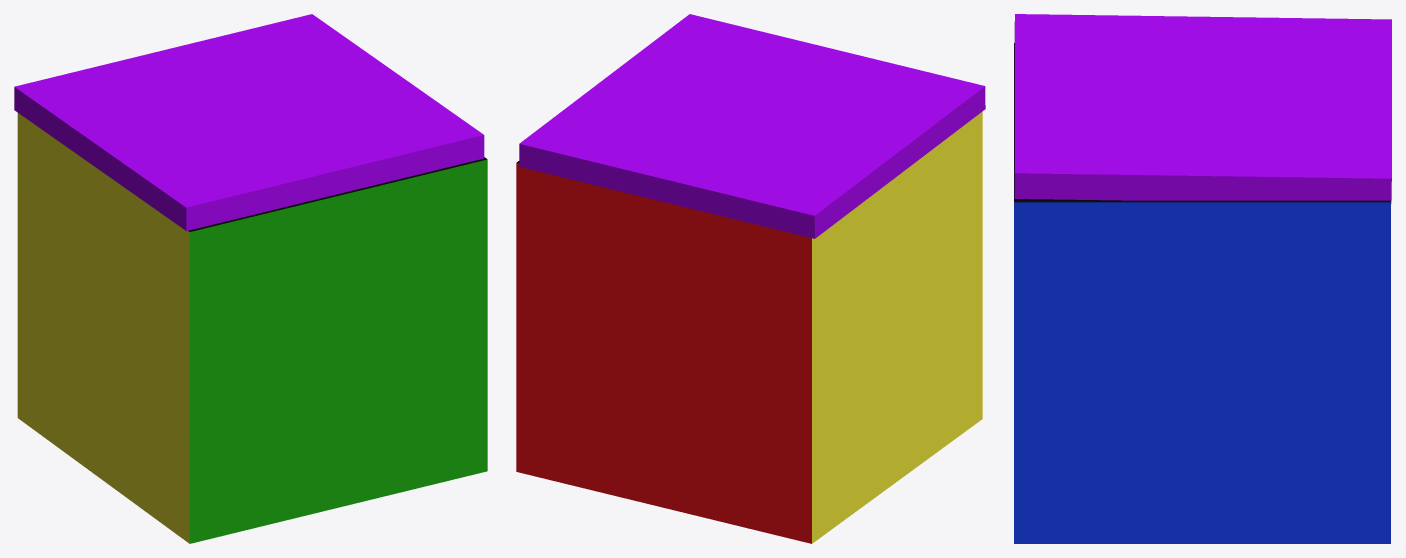
File: ToyBlock.fbx
3 views of the same model, side by side, from view 1: azimuth 30°, elevation 25°; view 2: azimuth 150°, elevation 25°; view 3: azimuth 270°, elevation 25° (orthographic). The views are drawn at different scales.
Visible parts, largest first — view 1: Box, Lid; view 2: Box, Lid; view 3: Box, Lid.
Boxes of the visible parts, left/top/right/bottom form: Box: left=17, top=113, right=487, bottom=543; Lid: left=14, top=14, right=484, bottom=230; Box: left=516, top=111, right=982, bottom=543; Lid: left=519, top=14, right=985, bottom=238; Box: left=1014, top=43, right=1390, bottom=543; Lid: left=1014, top=14, right=1391, bottom=203.
Size of the model in its own units: 80.84 by 86.41 by 80.17.
